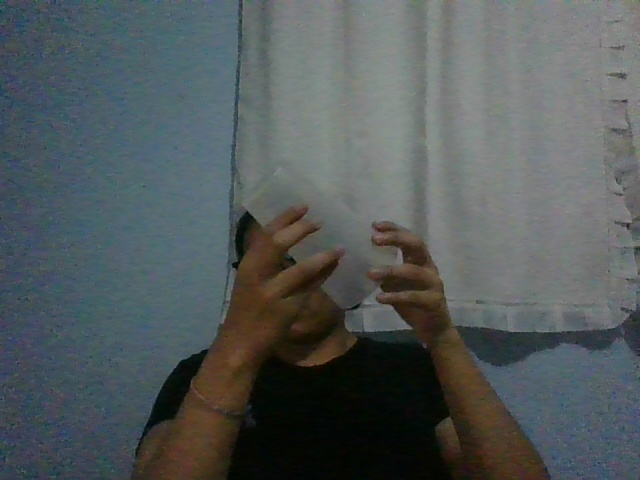vaso: (241, 160, 398, 310)
